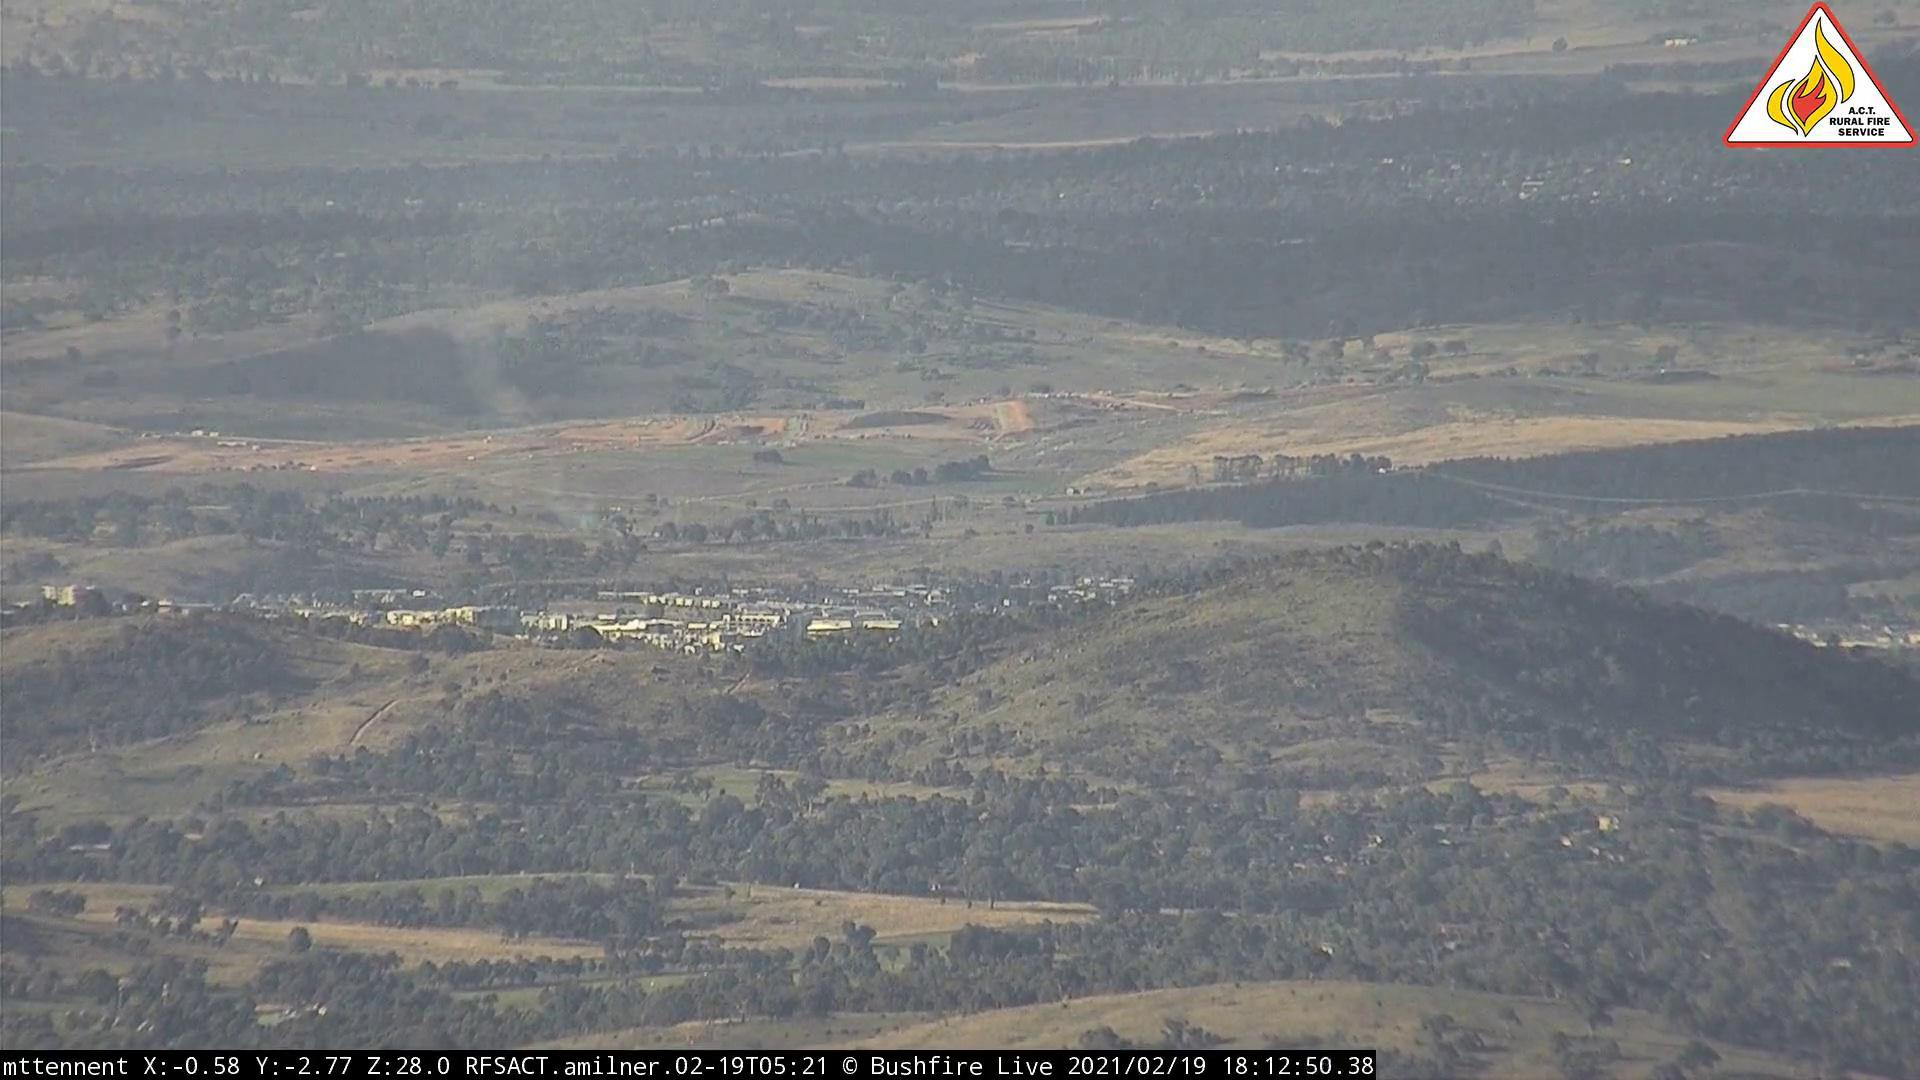Smoke: (585, 500, 632, 553)
